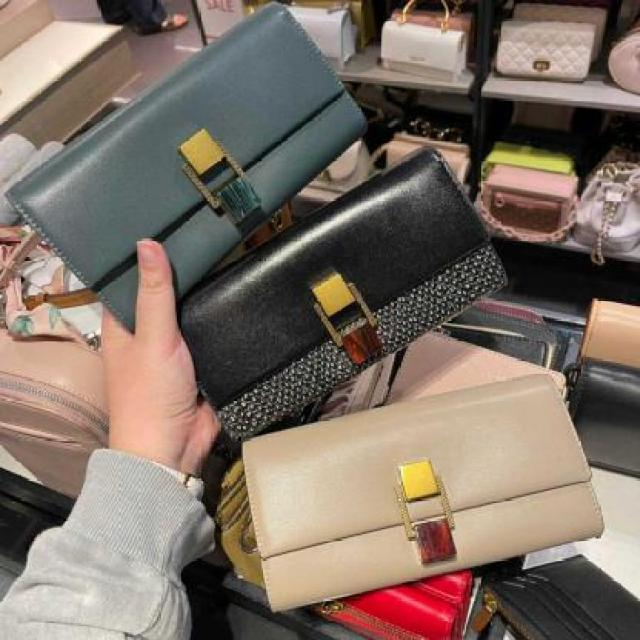Bag: (142, 128, 544, 480), (0, 0, 392, 341), (186, 350, 619, 625)
